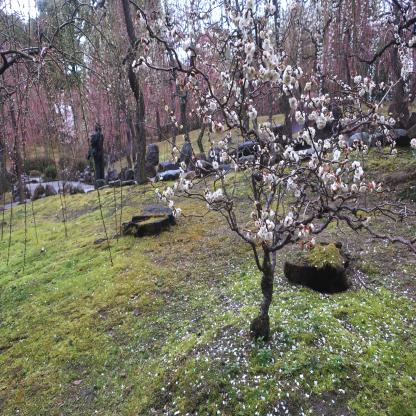Ume: (109, 0, 398, 265), (0, 0, 215, 164), (216, 0, 416, 107)
